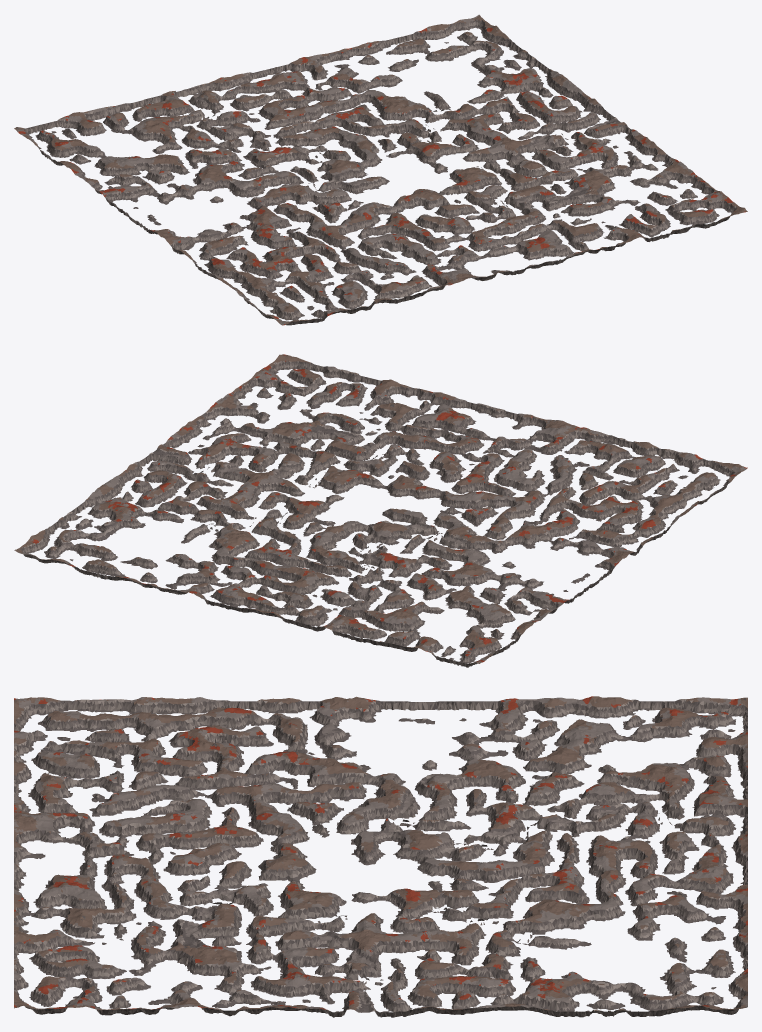
File: Dungeon-3-Relief.fbx
3 renders of one model, top to bottom at view 1: azimuth 30°, elevation 25°; view 2: azimuth 150°, elevation 25°; view 3: azimuth 270°, elevation 25°, orthographic. The views are drawn at different scales.
Parts seen in each view (by area): view 1: Dungeon-3-Relief-c74, Dungeon-3-Relief-c37, Dungeon-3-Relief-c77, Dungeon-3-Relief-c75, Dungeon-3-Relief-c41, Dungeon-3-Relief-c27, Dungeon-3-Relief-c45, Dungeon-3-Relief-c47, Dungeon-3-Relief-c11, Dungeon-3-Relief-c31, Dungeon-3-Relief-c46, Dungeon-3-Relief-c42 (+50 smaller); view 2: Dungeon-3-Relief-c46, Dungeon-3-Relief-c70, Dungeon-3-Relief-c10, Dungeon-3-Relief-c75, Dungeon-3-Relief-c63, Dungeon-3-Relief-c20, Dungeon-3-Relief-c36, Dungeon-3-Relief-c50, Dungeon-3-Relief-c22, Dungeon-3-Relief-c74, Dungeon-3-Relief-c73, Dungeon-3-Relief-c60 (+50 smaller); view 3: Dungeon-3-Relief-c02, Dungeon-3-Relief-c01, Dungeon-3-Relief-c63, Dungeon-3-Relief-c64, Dungeon-3-Relief-c31, Dungeon-3-Relief-c07, Dungeon-3-Relief-c06, Dungeon-3-Relief-c00, Dungeon-3-Relief-c60, Dungeon-3-Relief-c45, Dungeon-3-Relief-c10, Dungeon-3-Relief-c52 (+51 smaller).
Boxes of the visible parts, x1,y1,x2,y2 form: Dungeon-3-Relief-c74: (525,89,613,135); Dungeon-3-Relief-c37: (188,73,273,113); Dungeon-3-Relief-c77: (421,14,512,59); Dungeon-3-Relief-c75: (488,67,580,109); Dungeon-3-Relief-c41: (448,207,536,250); Dungeon-3-Relief-c27: (130,89,219,129); Dungeon-3-Relief-c45: (314,109,399,151); Dungeon-3-Relief-c47: (247,57,334,99); Dungeon-3-Relief-c11: (273,249,365,293); Dungeon-3-Relief-c31: (390,220,480,264); Dungeon-3-Relief-c46: (282,87,367,126); Dungeon-3-Relief-c42: (415,181,504,220); Dungeon-3-Relief-c46: (225,546,312,589); Dungeon-3-Relief-c70: (249,354,340,396); Dungeon-3-Relief-c10: (600,441,689,484); Dungeon-3-Relief-c75: (81,477,169,518); Dungeon-3-Relief-c63: (211,443,297,482); Dungeon-3-Relief-c20: (544,425,631,466); Dungeon-3-Relief-c36: (280,561,371,603); Dungeon-3-Relief-c50: (370,383,456,427); Dungeon-3-Relief-c22: (473,474,563,518); Dungeon-3-Relief-c74: (115,455,206,498); Dungeon-3-Relief-c73: (148,427,239,472); Dungeon-3-Relief-c60: (309,369,398,413); Dungeon-3-Relief-c02: (197,697,290,746); Dungeon-3-Relief-c01: (104,697,198,746); Dungeon-3-Relief-c63: (288,929,381,980); Dungeon-3-Relief-c64: (380,930,473,980); Dungeon-3-Relief-c31: (104,813,197,862); Dungeon-3-Relief-c07: (654,697,747,747); Dungeon-3-Relief-c06: (564,696,657,746); Dungeon-3-Relief-c00: (14,697,106,746); Dungeon-3-Relief-c60: (14,931,106,978); Dungeon-3-Relief-c45: (471,854,564,902); Dungeon-3-Relief-c10: (14,736,106,785); Dungeon-3-Relief-c52: (197,893,290,938).
Bounding box in the file's own units: 132 × 2.86 × 132.
